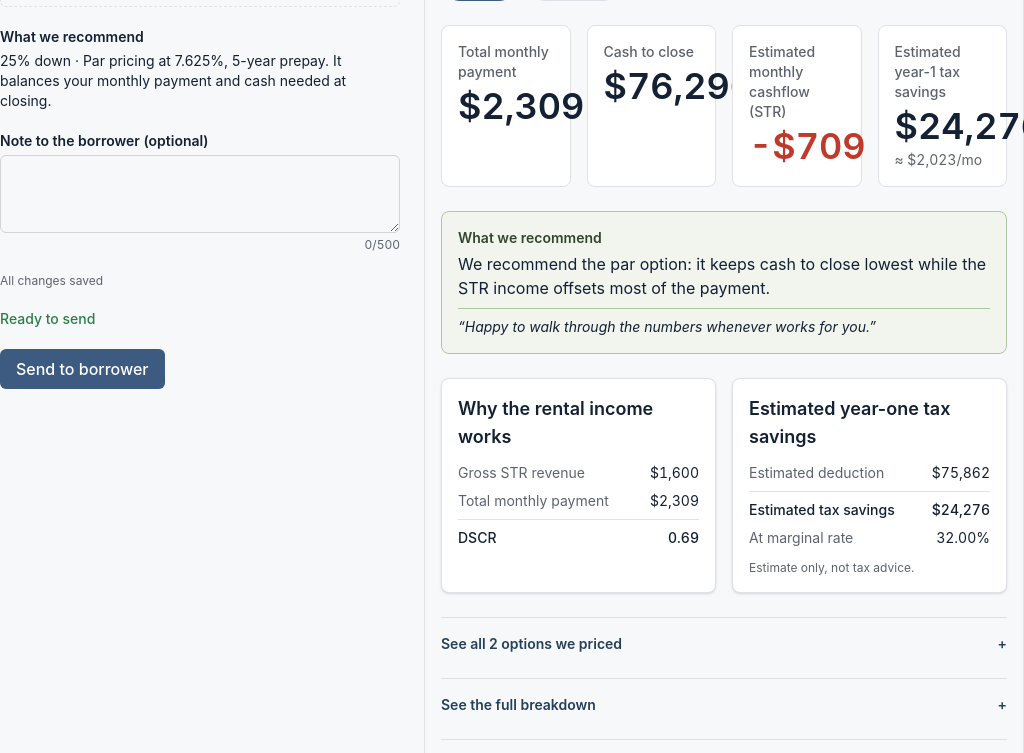
Test: Send flow (CQ-020) › a failed send shows its error and offers Try again
(page scrolled)
Click the button "Send to borrower" at {"x": 82, "y": 369}, box [0,349,164,389]
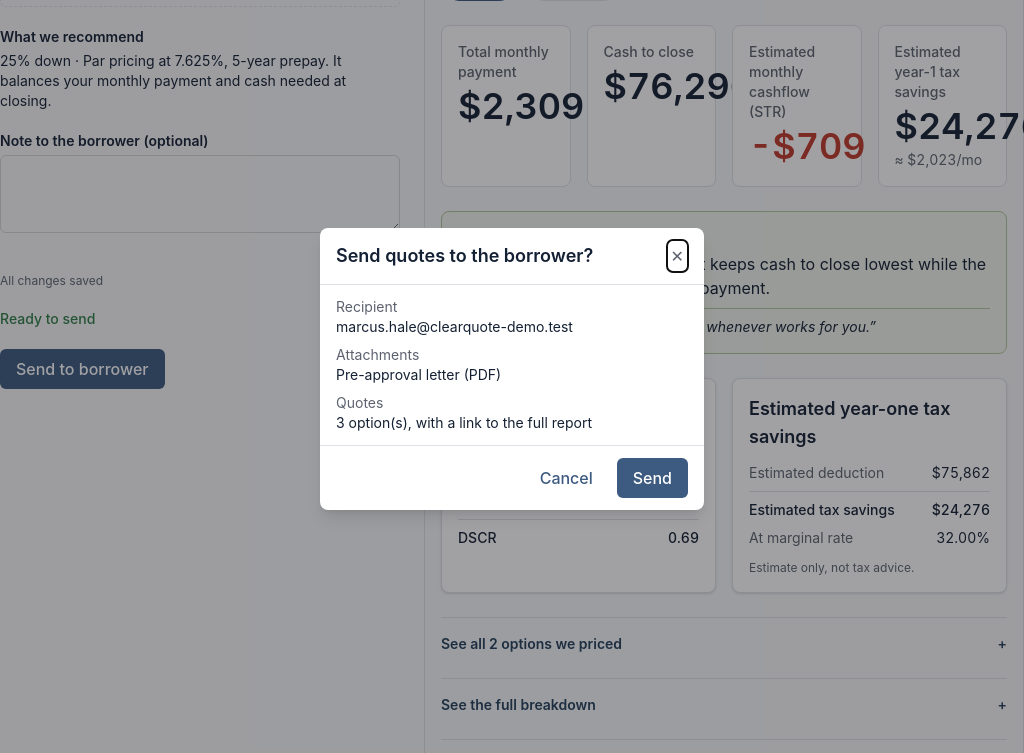
Click the button "Send" at {"x": 652, "y": 478}, box [617,458,688,498]
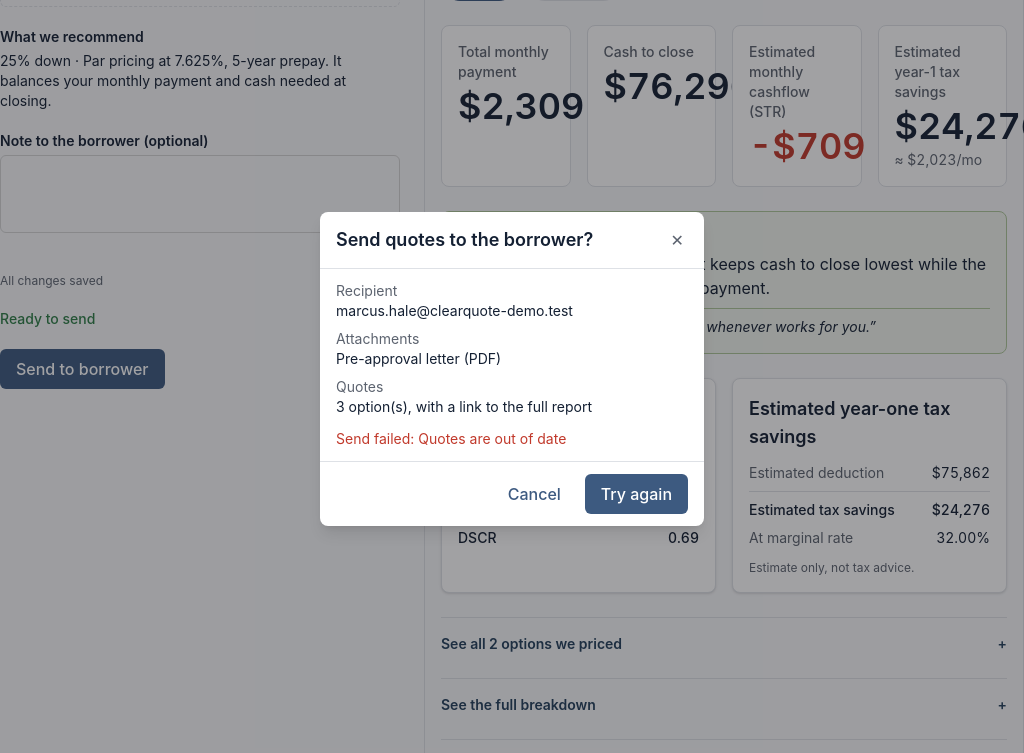
Now the button "Try again" is enabled, box [585,474,688,514]
Now the message with test id "send-failed" reads "Send failed: Quotes are out of date", box [336,430,566,447]
